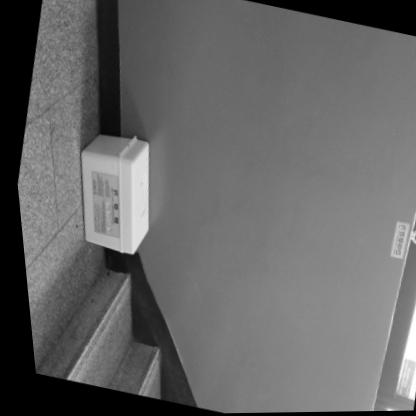DDL: (54, 122, 168, 258)
